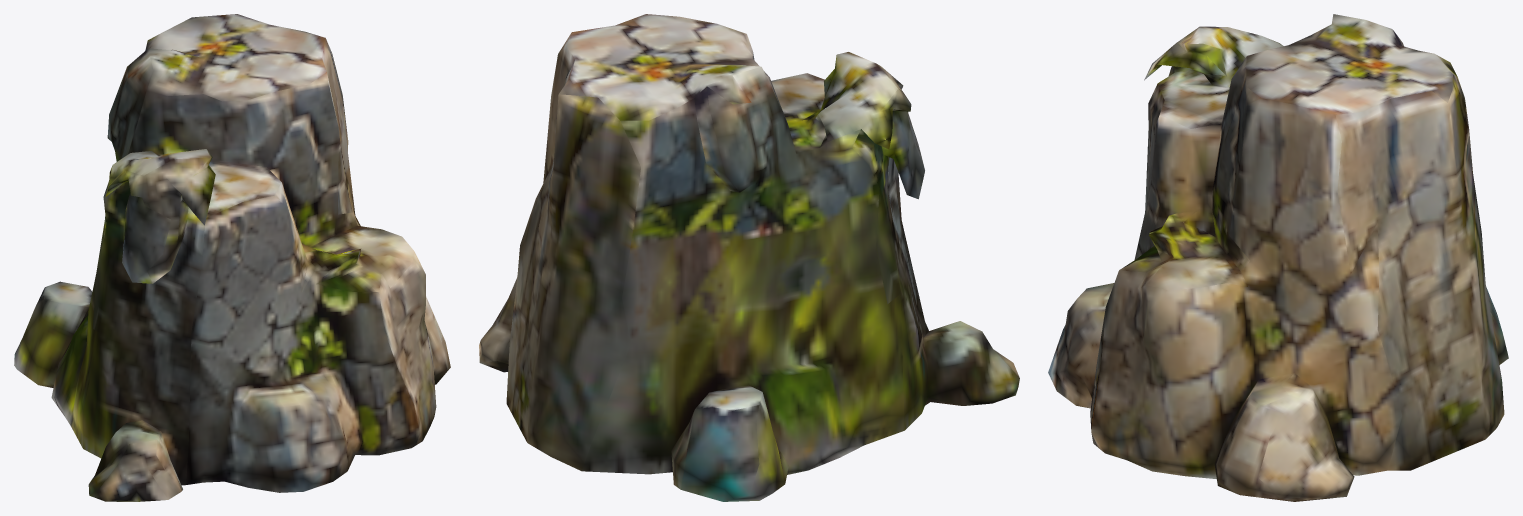
File: SummerDecor_ThirdRoom_SmallRock.fbx
3 views of the same model, side by side, from view 1: azimuth 30°, elevation 25°; view 2: azimuth 150°, elevation 25°; view 3: azimuth 270°, elevation 25° (orthographic). The views are drawn at different scales.
Visible parts, largest first — view 1: SummerDecor_ThirdRoom_SmallRock_Mesh; view 2: SummerDecor_ThirdRoom_SmallRock_Mesh; view 3: SummerDecor_ThirdRoom_SmallRock_Mesh.
Boxes of the visible parts, box(x1,y1,x2,y2) form: SummerDecor_ThirdRoom_SmallRock_Mesh: box(14, 14, 450, 501); SummerDecor_ThirdRoom_SmallRock_Mesh: box(479, 14, 1019, 501); SummerDecor_ThirdRoom_SmallRock_Mesh: box(1048, 14, 1508, 501).
Bounding box in the file's own units: 6 × 4.67 × 5.43.
1 material, 1 textured.
